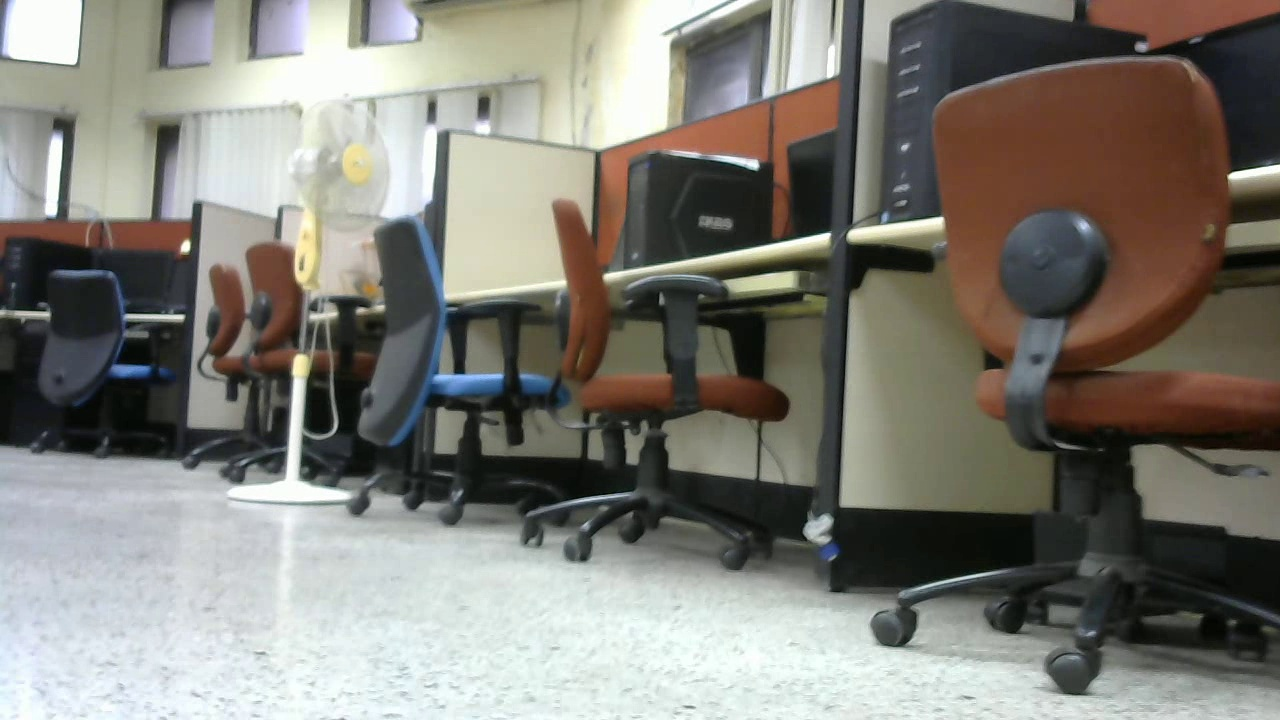chair: (874, 48, 1280, 699), (516, 198, 792, 565), (344, 214, 570, 527), (189, 241, 375, 480), (29, 260, 179, 454)
